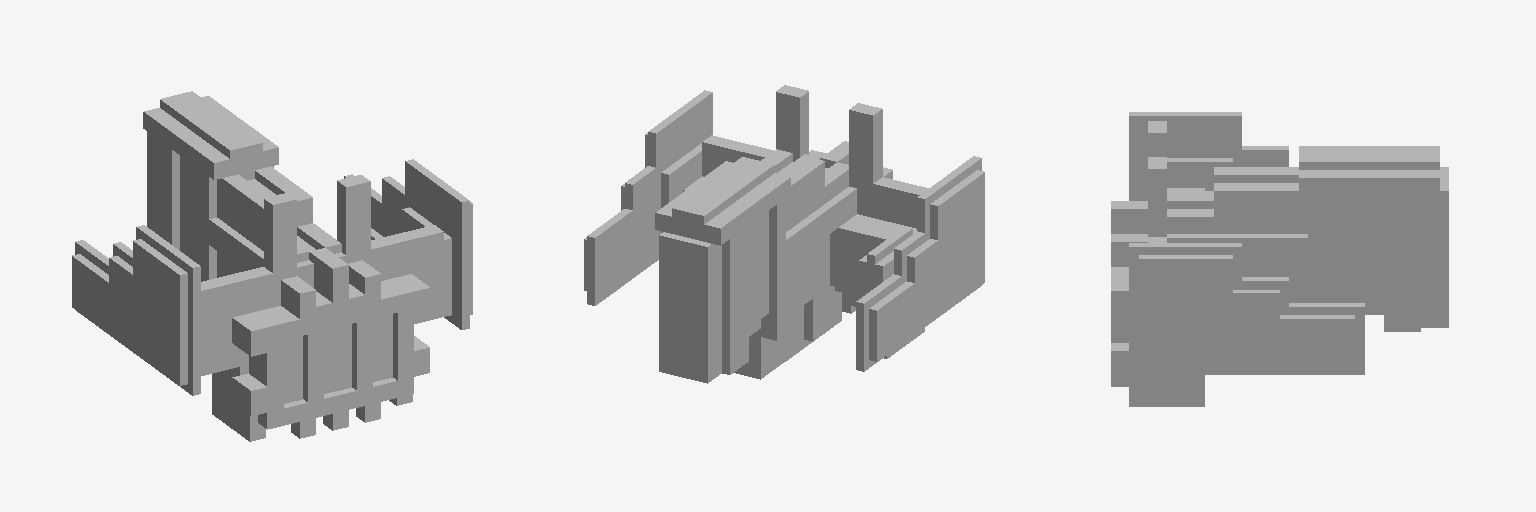
The model's file is 1 Enemy.obj.
3 renders of one model, left to right at view 1: azimuth 30°, elevation 25°; view 2: azimuth 150°, elevation 25°; view 3: azimuth 270°, elevation 25°, orthographic.
Parts seen in each view (by area): view 1: 1 Ship; view 2: 1 Ship; view 3: 1 Ship.
Boxes of the visible parts, box(x1,y1,x2,y2) form: 1 Ship: box(72, 91, 472, 441); 1 Ship: box(584, 85, 984, 383); 1 Ship: box(1111, 112, 1448, 406).
Size of the model in its own units: 36 by 26 by 36.